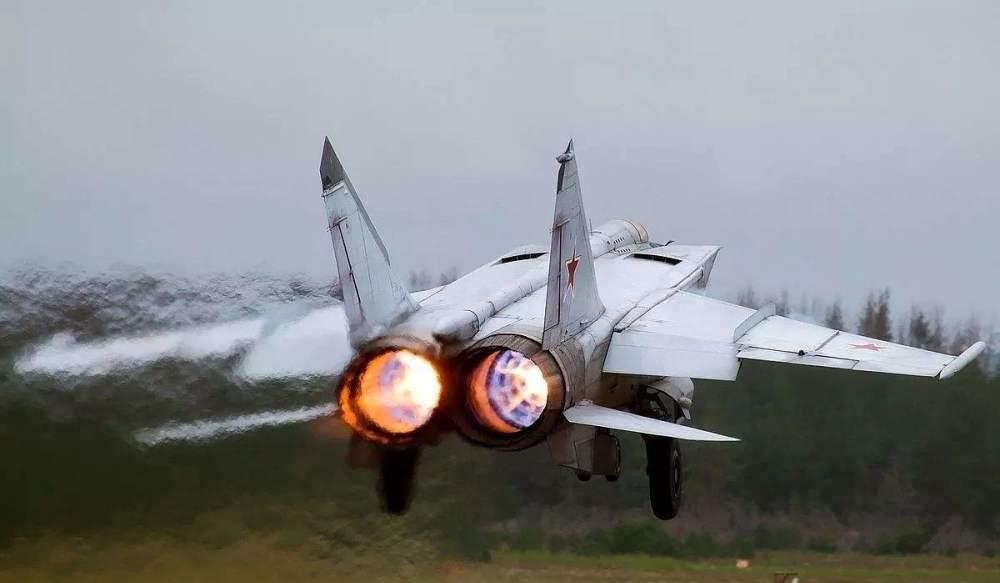airplane: (16, 129, 1000, 480)
